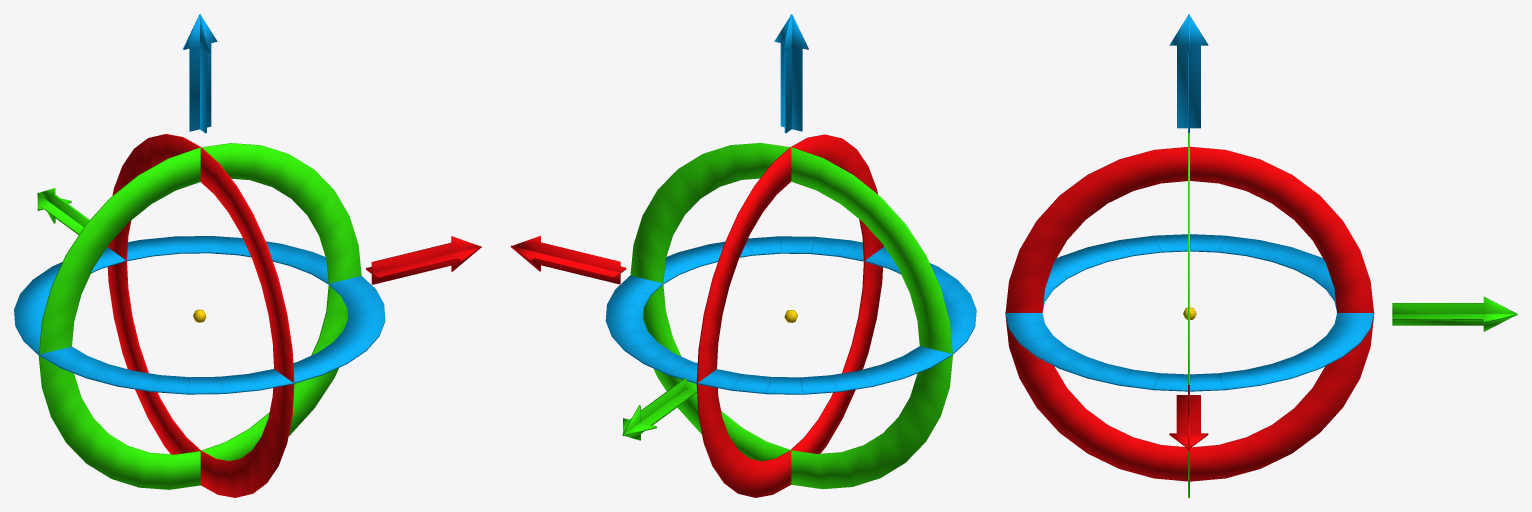
File: axis.fbx
3 renders of one model, left to right at view 1: azimuth 30°, elevation 25°; view 2: azimuth 150°, elevation 25°; view 3: azimuth 270°, elevation 25°, orthographic.
Parts seen in each view (by area): view 1: Sphere; view 2: Sphere; view 3: Sphere.
Part boxes in pixels (x1,y1,x2,y2): Sphere: (14, 14, 481, 497); Sphere: (510, 14, 976, 497); Sphere: (1005, 14, 1517, 497).
Bounding box in the file's own units: 137 × 140 × 139.
